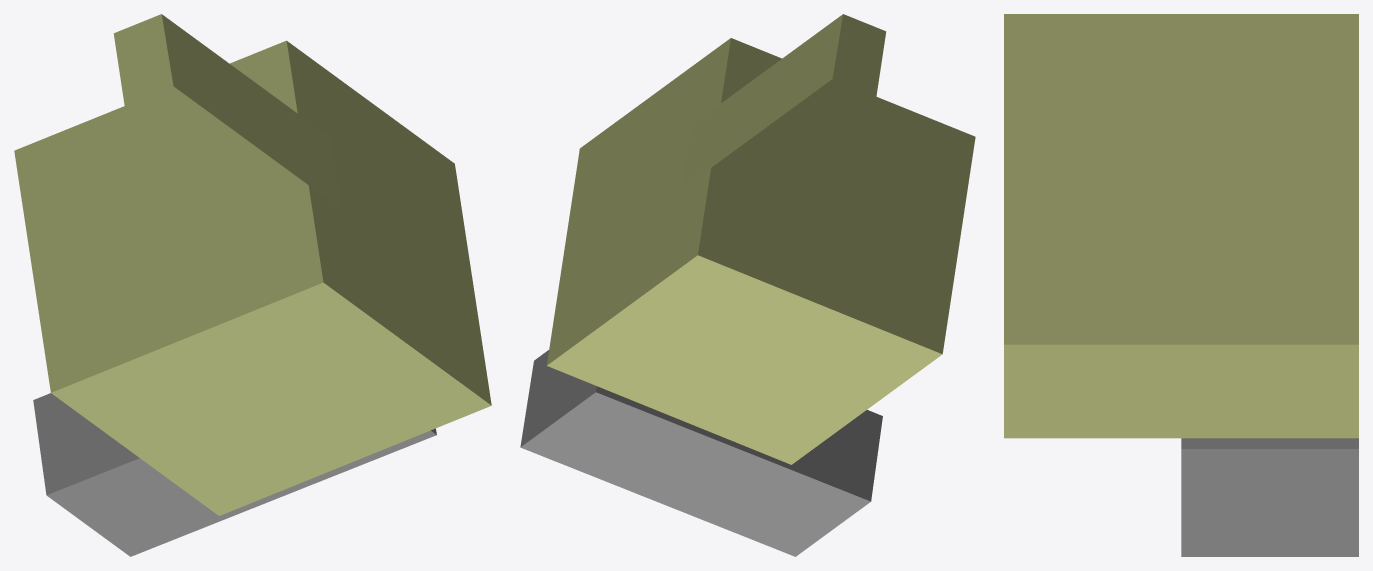
3 views of the same model, side by side, from view 1: azimuth 30°, elevation 25°; view 2: azimuth 150°, elevation 25°; view 3: azimuth 270°, elevation 25° (orthographic). The views are drawn at different scales.
Visible parts, largest first — view 1: 0_1_2_0_3_1_2_3_0_3; view 2: 0_1_2_0_3_1_2_3_0_3; view 3: 0_1_2_0_3_1_2_3_0_3.
Part boxes in pixels (box(x1,y1,x2,y2)): 0_1_2_0_3_1_2_3_0_3: box(14, 14, 491, 556); 0_1_2_0_3_1_2_3_0_3: box(520, 14, 975, 556); 0_1_2_0_3_1_2_3_0_3: box(1004, 14, 1358, 556).
Size of the model in its own units: 6.97 by 8.92 by 6.
